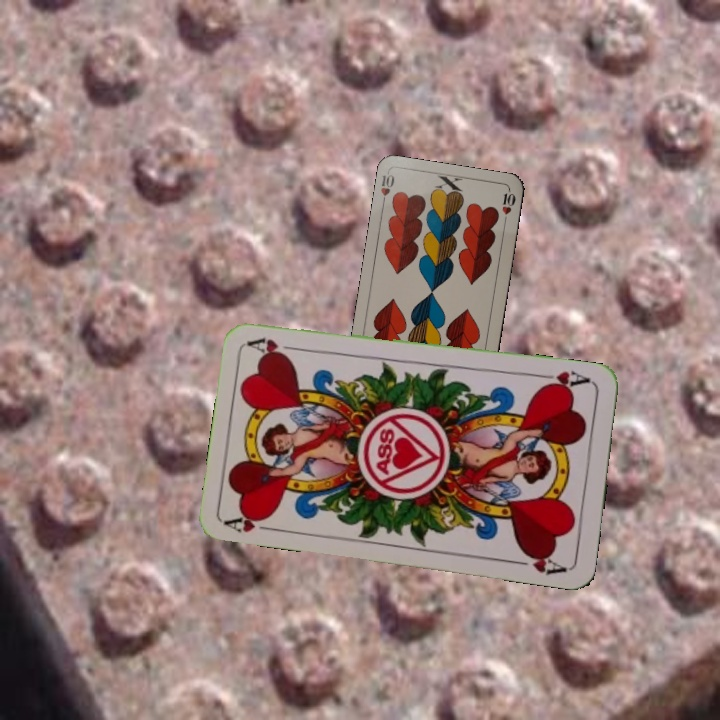H10: (377, 169, 397, 209)
HA: (222, 507, 282, 535), (536, 366, 595, 394)
